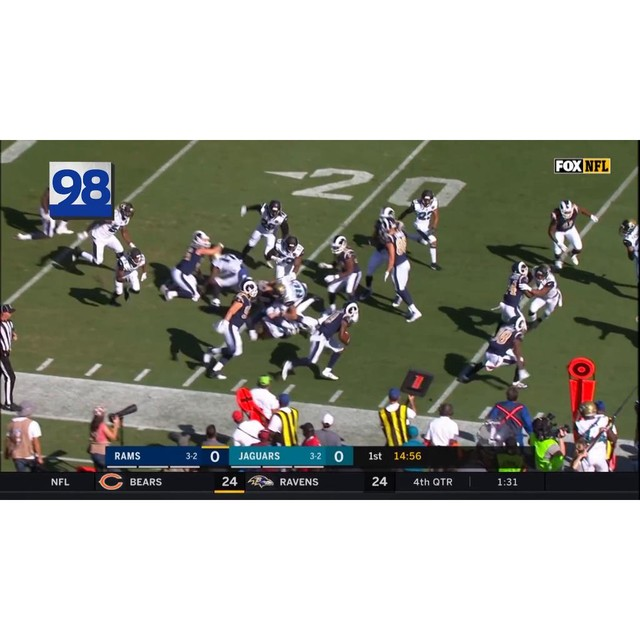american-football-player: (282, 300, 360, 382), (195, 281, 259, 378), (459, 315, 529, 387), (71, 201, 135, 278), (378, 219, 425, 321), (160, 231, 215, 307), (358, 208, 399, 303), (398, 188, 443, 269), (238, 198, 286, 269), (548, 200, 597, 269), (322, 235, 364, 313), (525, 264, 564, 331), (107, 247, 148, 306), (493, 271, 532, 330), (209, 247, 250, 292), (270, 235, 306, 284)
referee: (0, 303, 20, 408)
